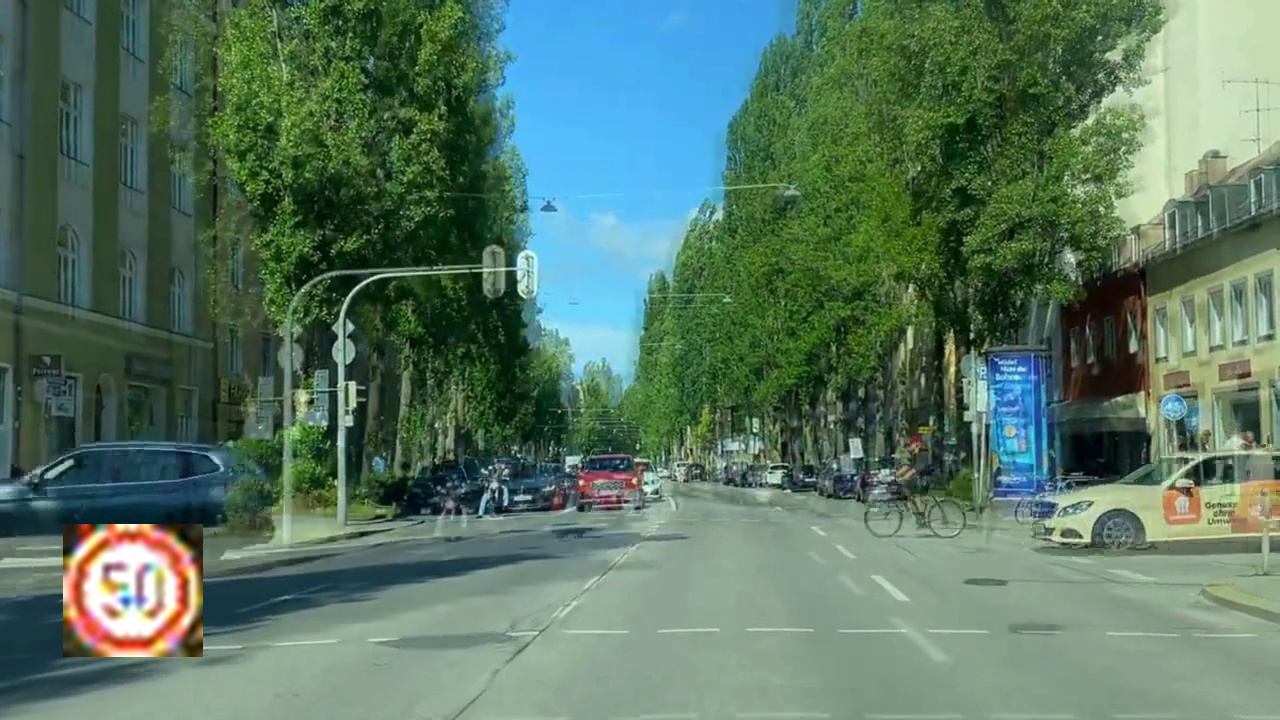Speed 50: (63, 524, 203, 657)
